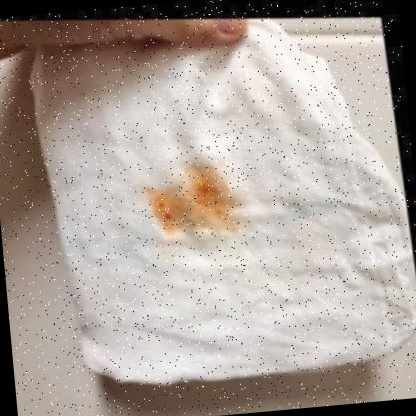kimchi: (144, 156, 240, 247)
